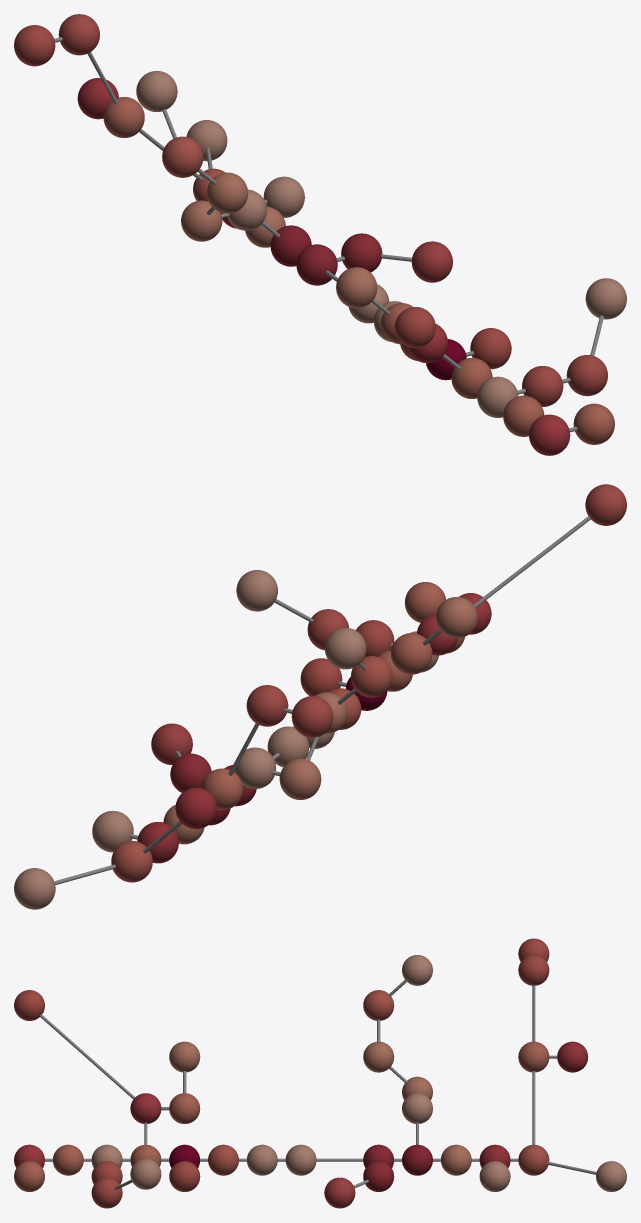
The model's file is Figure_2_similar_4.glb.
3 renders of one model, top to bottom at view 1: azimuth 30°, elevation 25°; view 2: azimuth 150°, elevation 25°; view 3: azimuth 270°, elevation 25°, orthographic. The views are drawn at different scales.
Visible parts, largest first — view 1: world; view 2: world; view 3: world.
Boxes of the visible parts, box(x1,y1,x2,y2) form: world: box(14, 14, 626, 455); world: box(14, 484, 626, 909); world: box(14, 938, 626, 1208).
Size of the model in its own units: 7.8 by 4.8 by 15.8.
